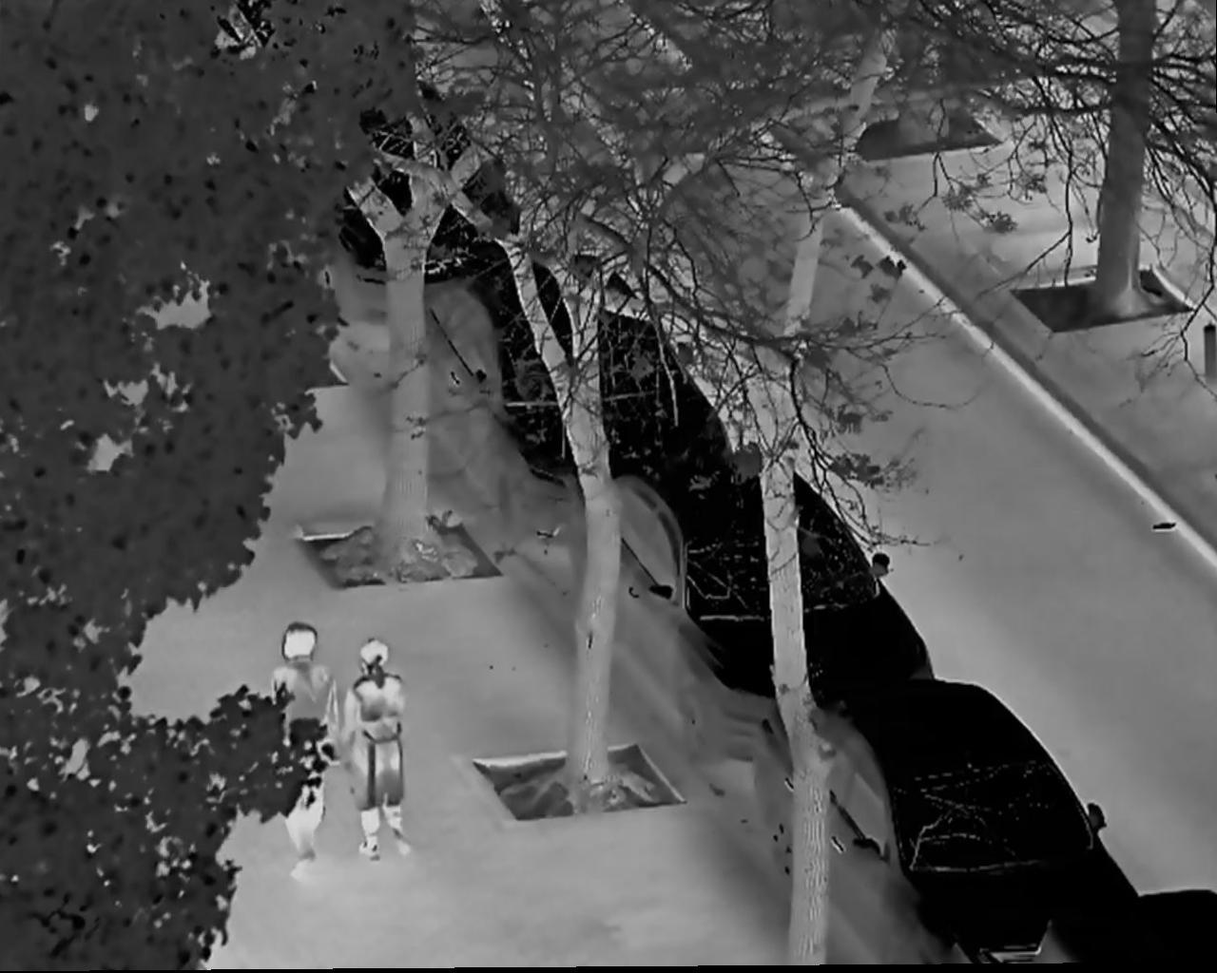person: (267, 624, 340, 873), (344, 640, 421, 864)
